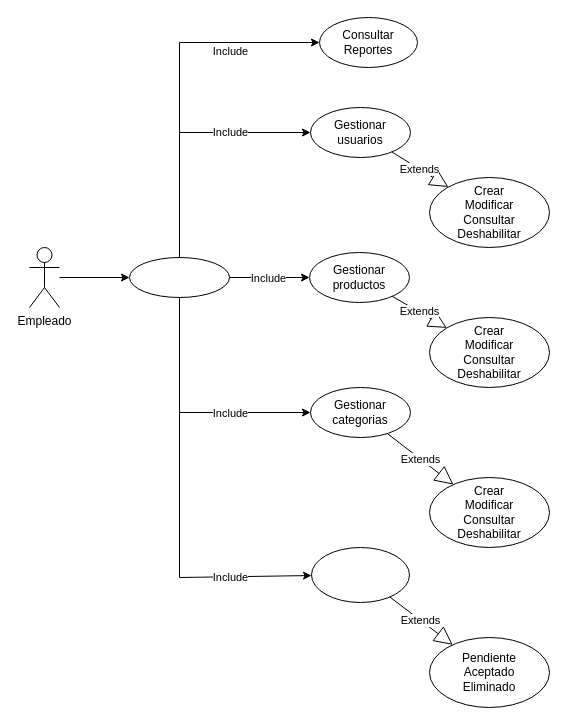
The diagram is 567 pixels wide and 725 high, and some of its shapes have lost their labels. Each missing label, with the centre of its shape:
"Gestionar pedidos" goes at (x=360, y=574).
"Iniciar Sesión" goes at (x=179, y=277).
